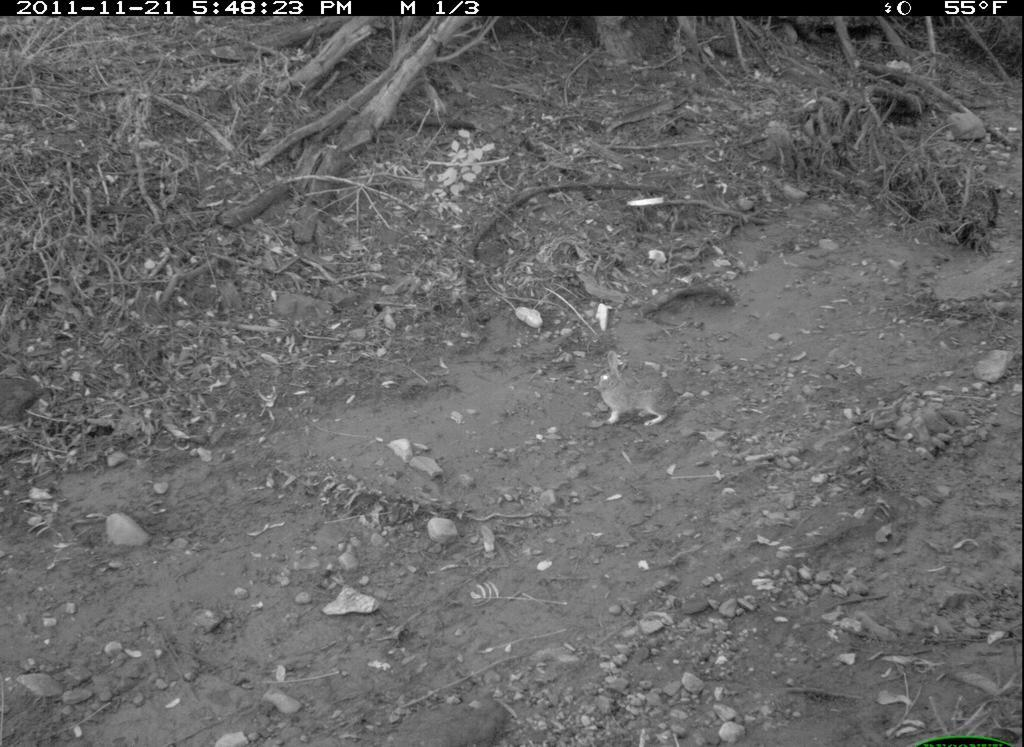rabbit: (592, 350, 694, 432)
